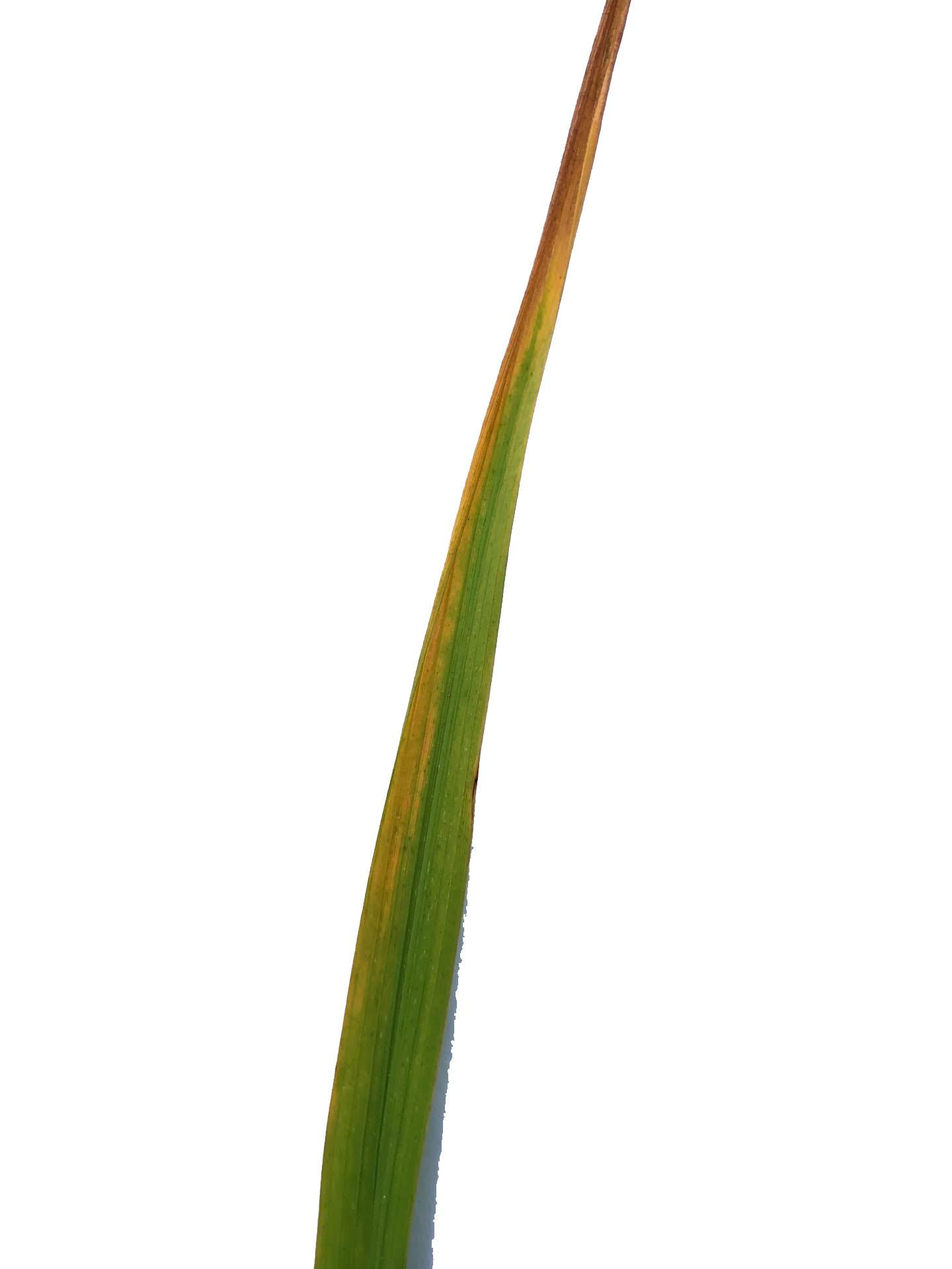Tungro: (311, 0, 633, 1269)
